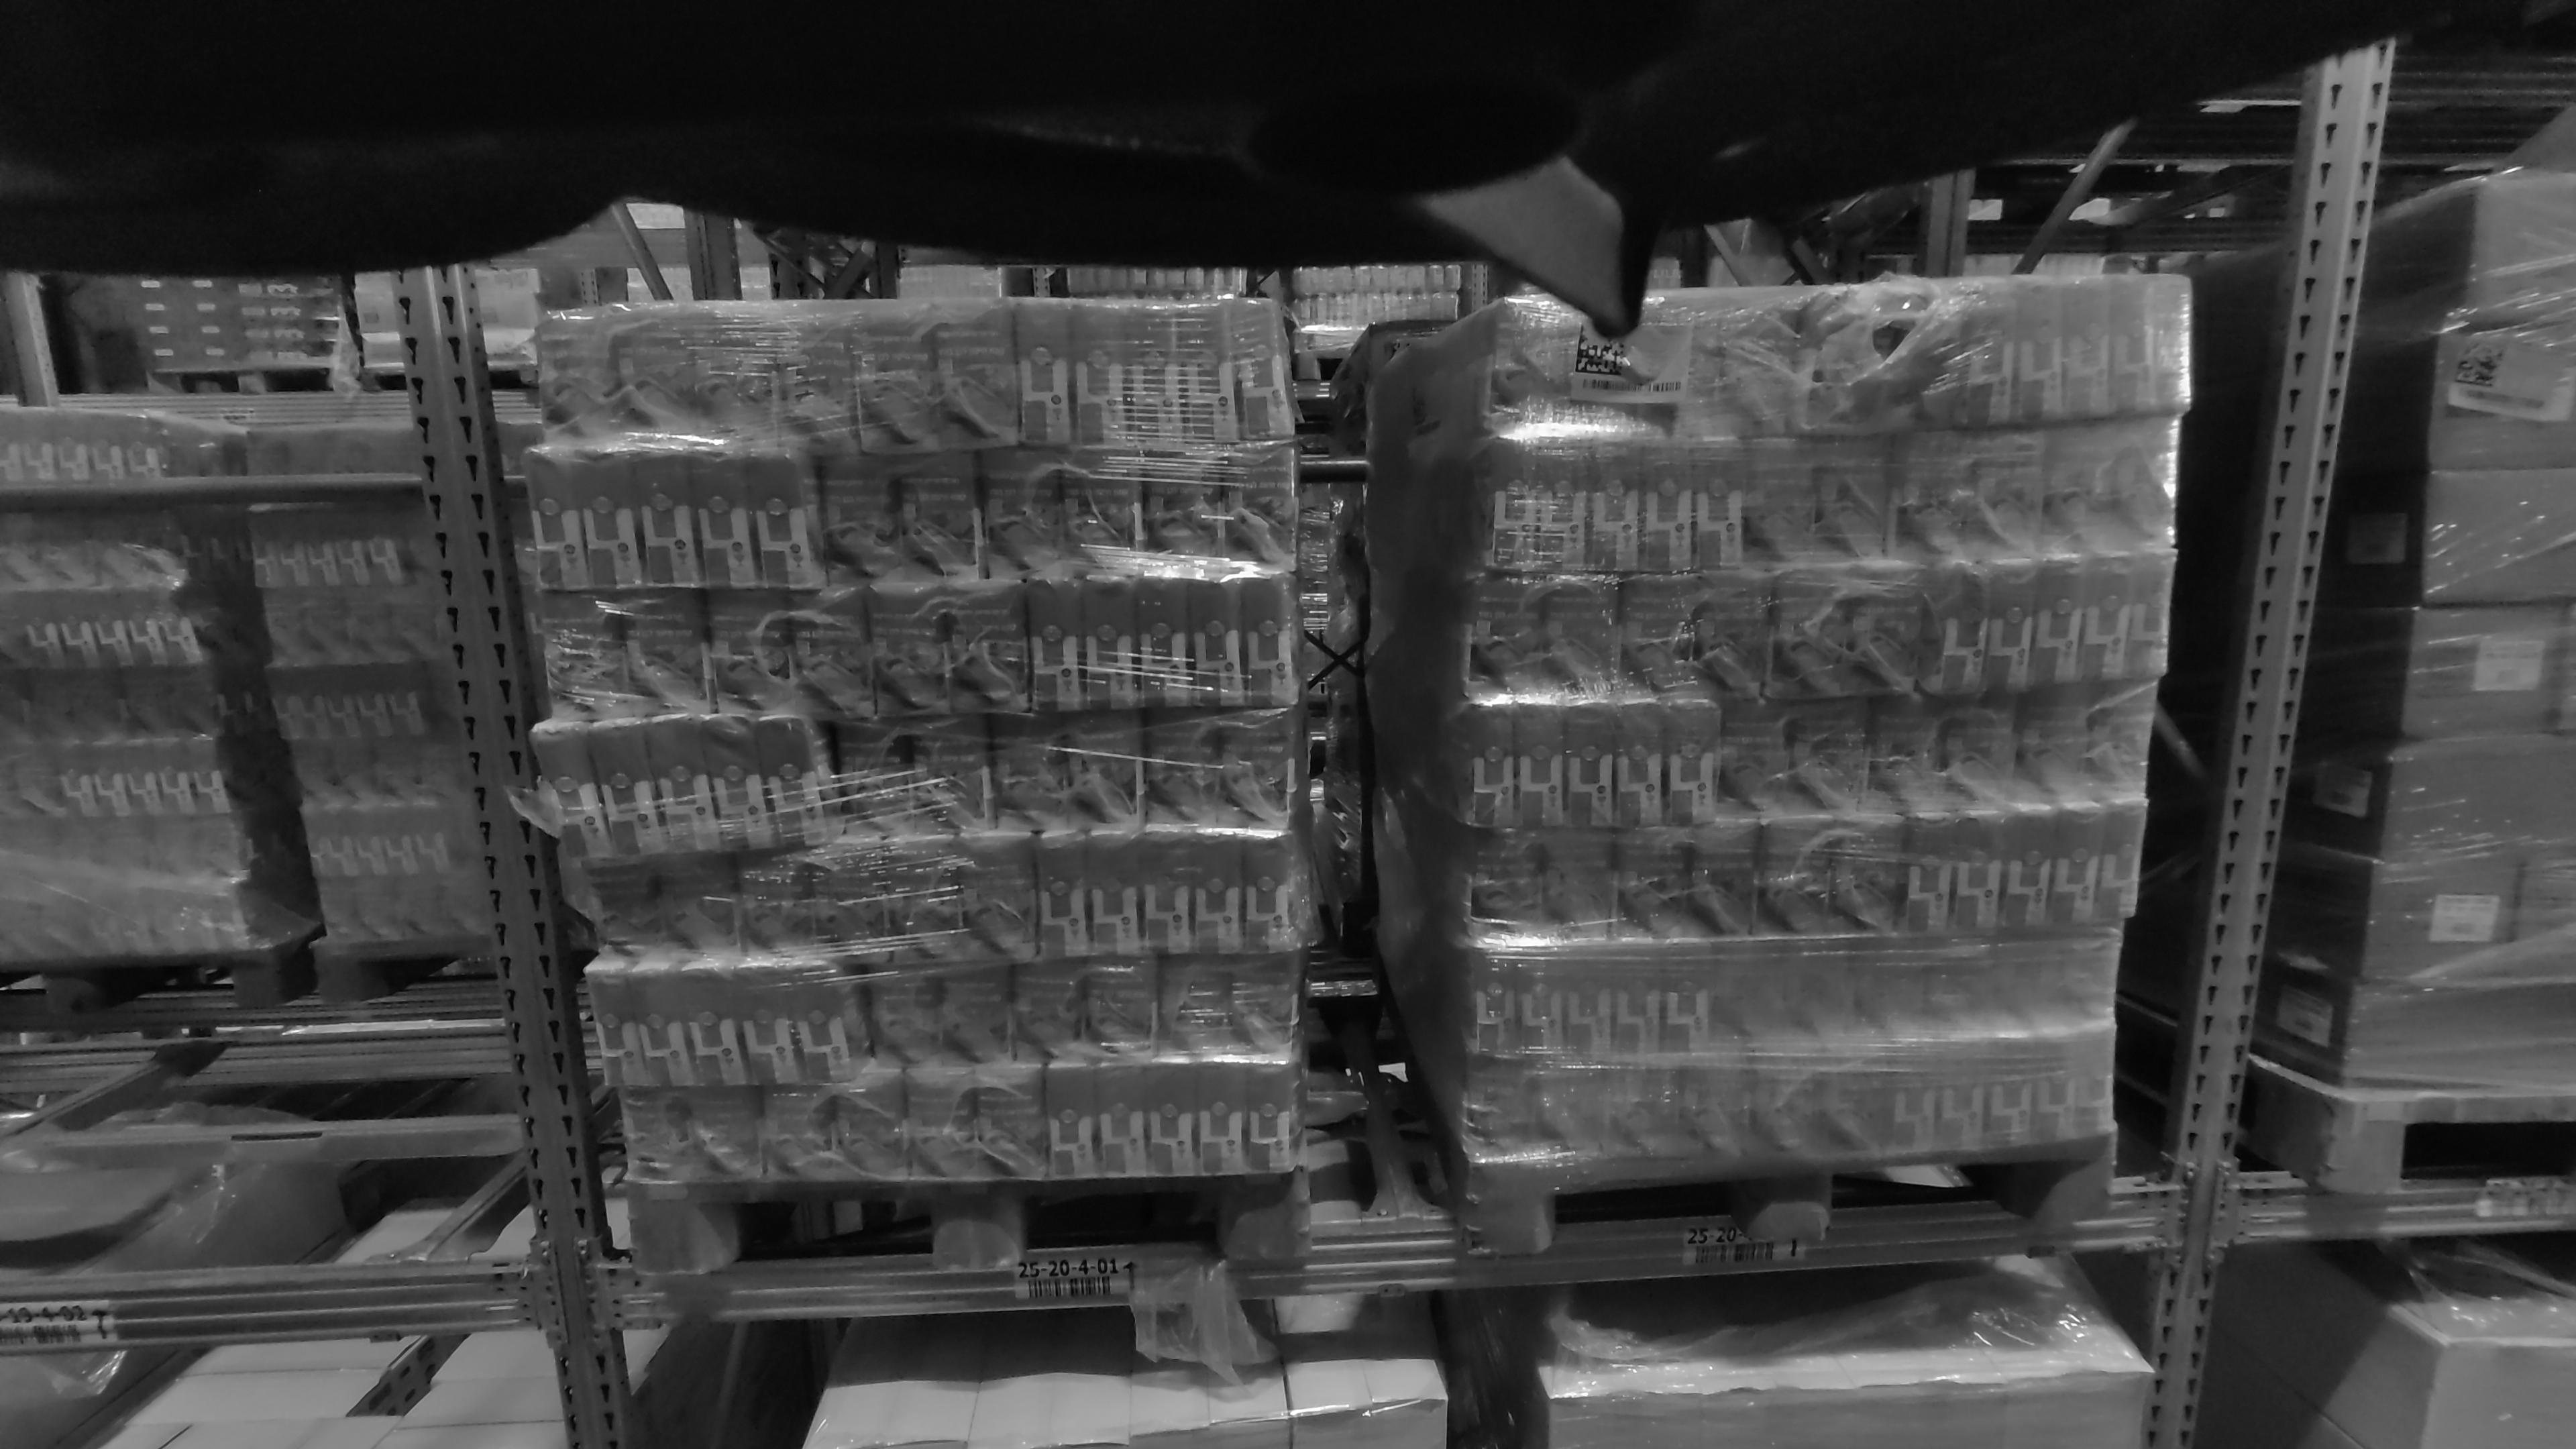empty-shelf: (0, 235, 441, 1241)
